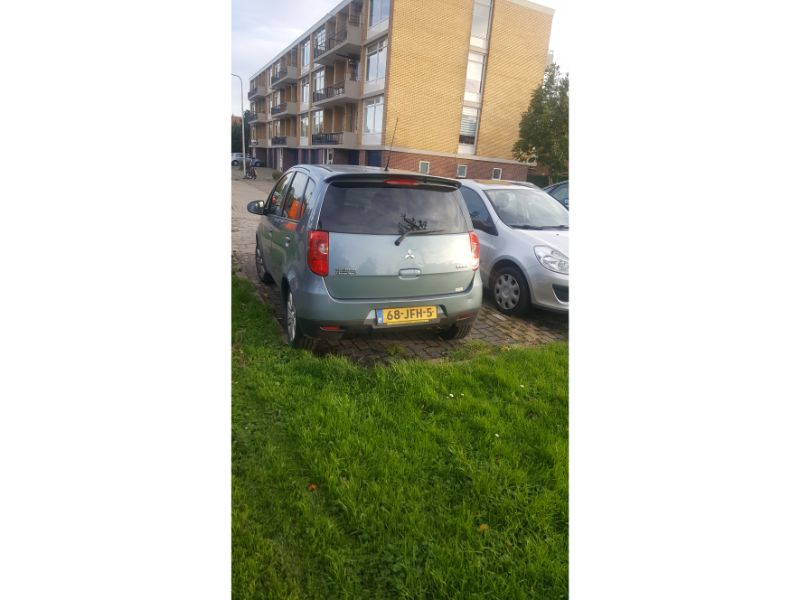kenteken: (376, 306, 440, 327)
